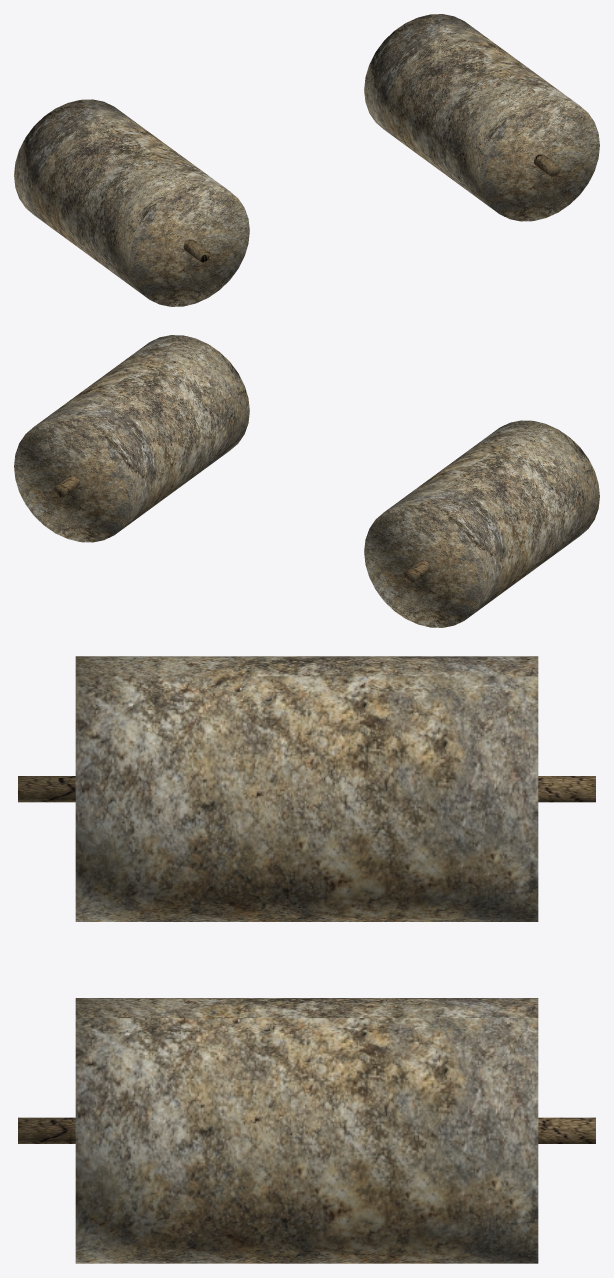
File: Ruedas.obj
3 views of the same model, one above another, from view 1: azimuth 30°, elevation 25°; view 2: azimuth 150°, elevation 25°; view 3: azimuth 270°, elevation 25° (orthographic). The views are drawn at different scales.
Visible parts, largest first — view 1: Cylinder004.001, Cylinder001.001; view 2: Cylinder004.001, Cylinder001.001; view 3: Cylinder004.001, Cylinder001.001, Cylinder005.001, Cylinder003.001.
Boxes of the visible parts, left/top/right/bottom form: Cylinder004.001: left=364, top=14, right=599, bottom=221; Cylinder001.001: left=14, top=99, right=249, bottom=306; Cylinder004.001: left=14, top=335, right=249, bottom=542; Cylinder001.001: left=364, top=420, right=599, bottom=627; Cylinder004.001: left=75, top=998, right=538, bottom=1263; Cylinder001.001: left=75, top=656, right=538, bottom=921; Cylinder005.001: left=18, top=1117, right=595, bottom=1143; Cylinder003.001: left=18, top=776, right=595, bottom=802.
Bounding box in the file's own units: 9.48 × 2.29 × 5.04.
